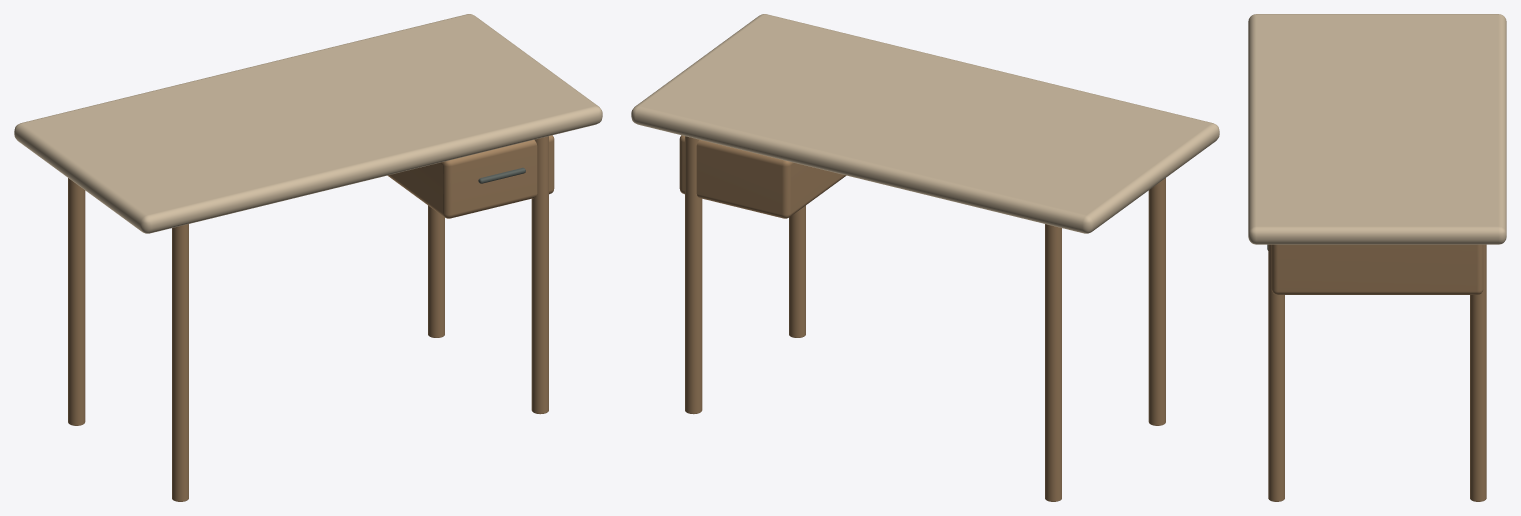
3 views of the same model, side by side, from view 1: azimuth 30°, elevation 25°; view 2: azimuth 150°, elevation 25°; view 3: azimuth 270°, elevation 25° (orthographic). The views are drawn at different scales.
Visible parts, largest first — view 1: tabletop, drawer, leg_-1_1, leg_1_1, leg_-1_-1, leg_1_-1; view 2: tabletop, drawer, leg_-1_-1, leg_1_-1, leg_-1_1, leg_1_1; view 3: tabletop, drawer, leg_1_-1, leg_1_1.
Boxes of the visible parts, <box> form: tabletop: <box>14,14,602,233</box>; drawer: <box>387,135,554,218</box>; leg_-1_1: <box>172,224,188,501</box>; leg_1_1: <box>531,136,548,414</box>; leg_-1_-1: <box>68,178,85,425</box>; leg_1_-1: <box>428,205,444,337</box>; tabletop: <box>631,14,1219,233</box>; drawer: <box>679,135,846,218</box>; leg_-1_-1: <box>1045,224,1061,501</box>; leg_1_-1: <box>685,136,702,414</box>; leg_-1_1: <box>1148,178,1165,425</box>; leg_1_1: <box>789,205,805,337</box>; tabletop: <box>1248,14,1506,244</box>; drawer: <box>1271,244,1483,294</box>; leg_1_-1: <box>1470,244,1486,501</box>; leg_1_1: <box>1268,244,1284,501</box>.
Bounding box in the file's own units: 1.2 × 0.75 × 0.6.
